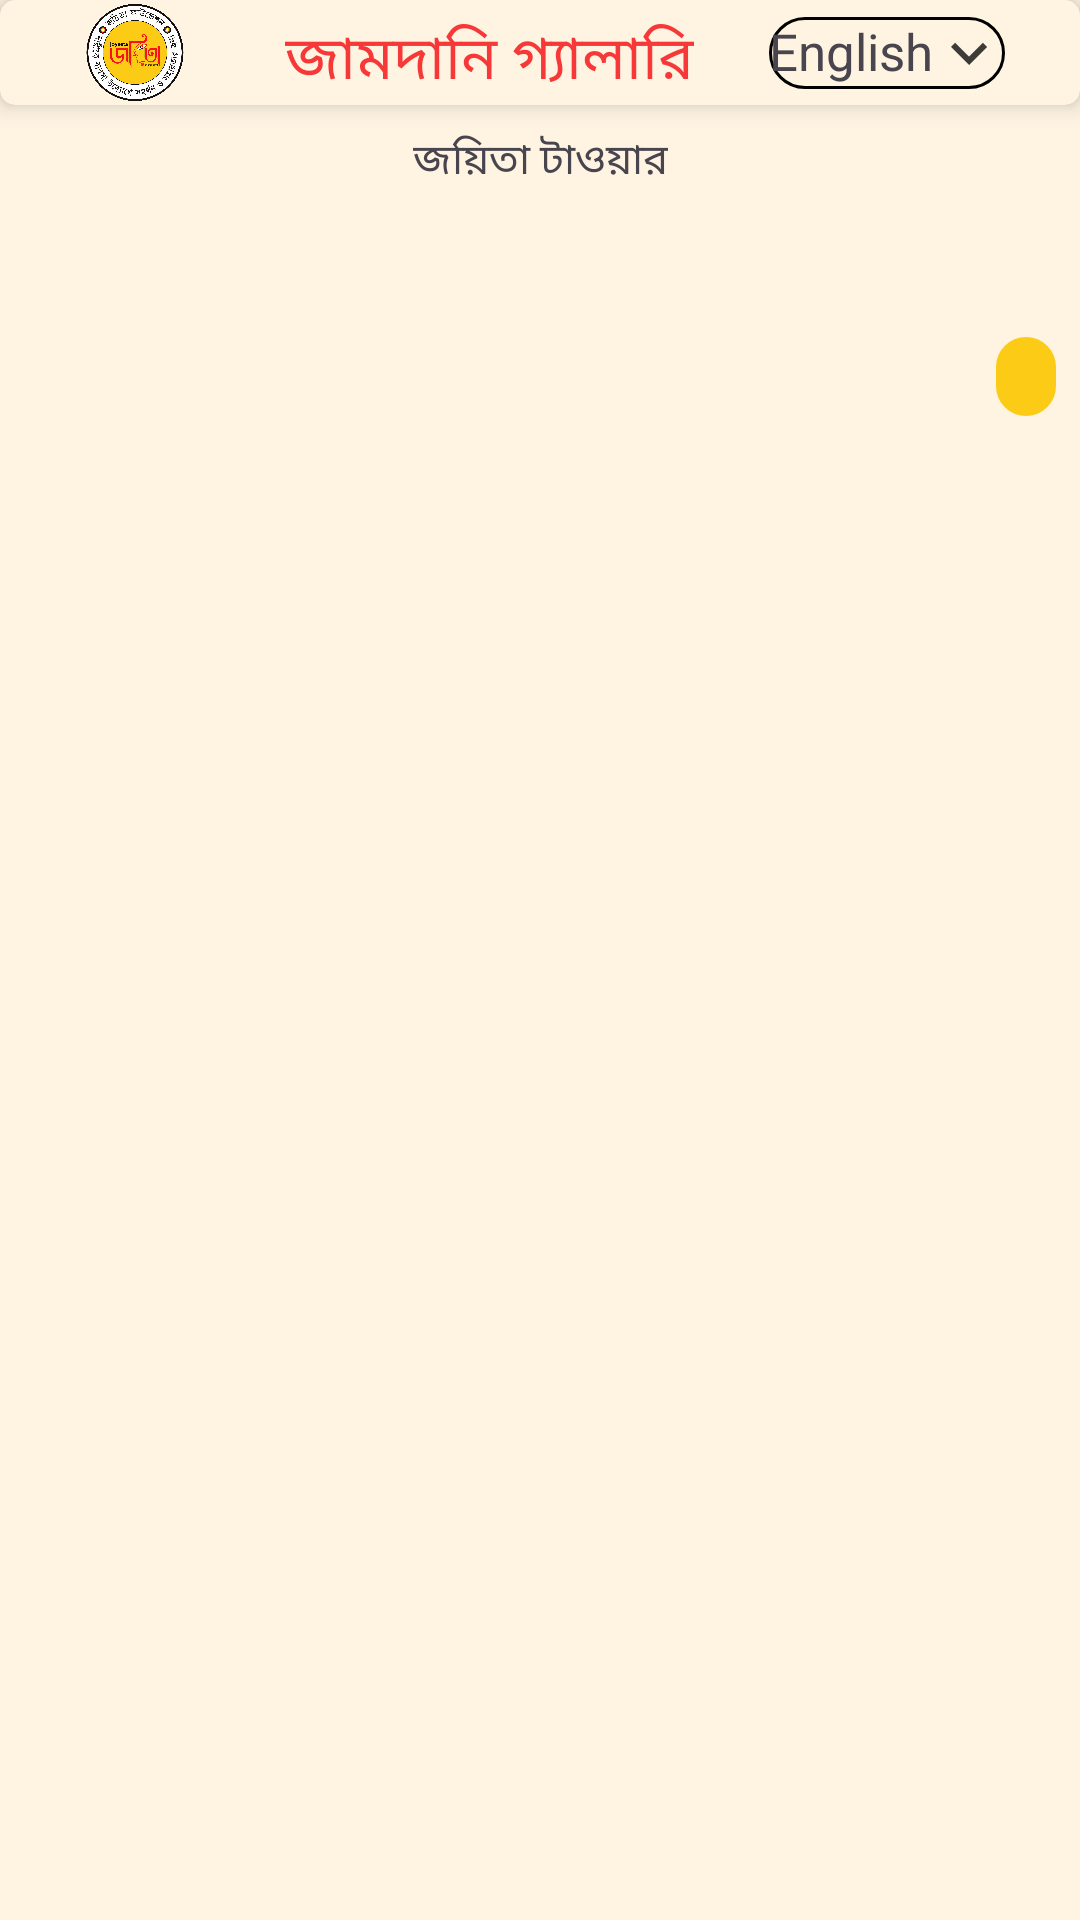

Locate icon controls on the screen. Image size 1080px x 1920px, boxes as (x1, y1, x2, y2).
downarrow: (933, 17, 1005, 89)
